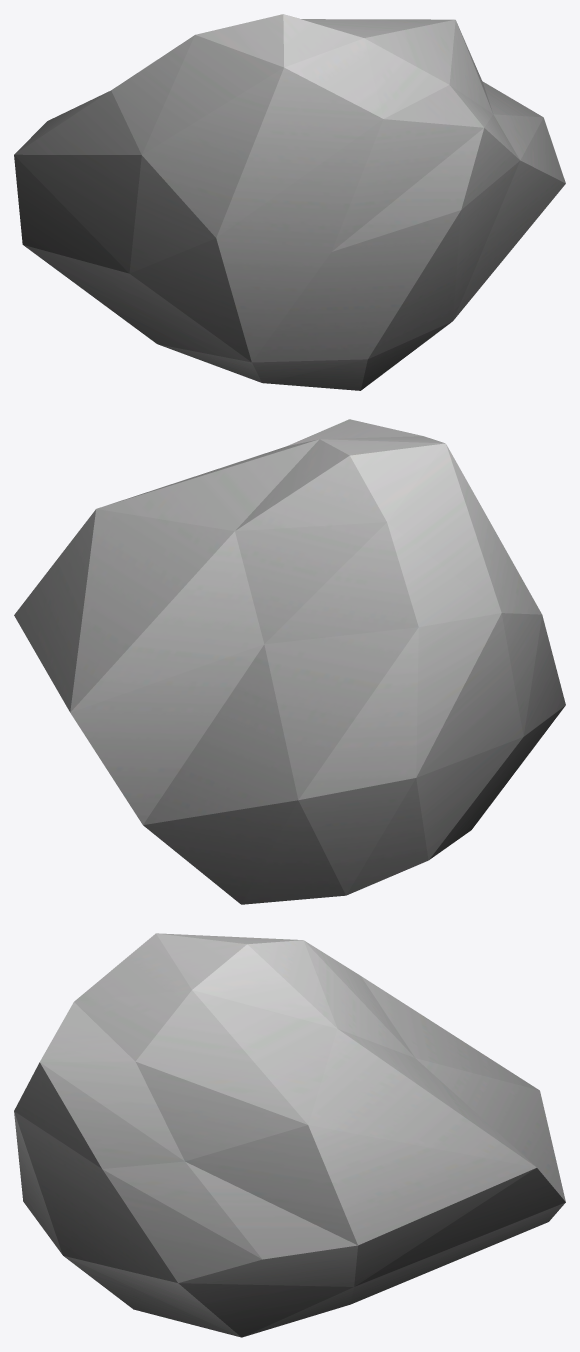
3 renders of one model, top to bottom at view 1: azimuth 30°, elevation 25°; view 2: azimuth 150°, elevation 25°; view 3: azimuth 270°, elevation 25°, orthographic. The views are drawn at different scales.
Visible parts, largest first — view 1: RockGrey1; view 2: RockGrey1; view 3: RockGrey1.
Part boxes in pixels (x1=…): RockGrey1: x1=14, y1=14, x2=565, y2=390; RockGrey1: x1=14, y1=419, x2=565, y2=904; RockGrey1: x1=14, y1=933, x2=565, y2=1337.
Bounding box in the file's own units: 4.5 × 3.39 × 4.79.
1 material, 1 textured.
